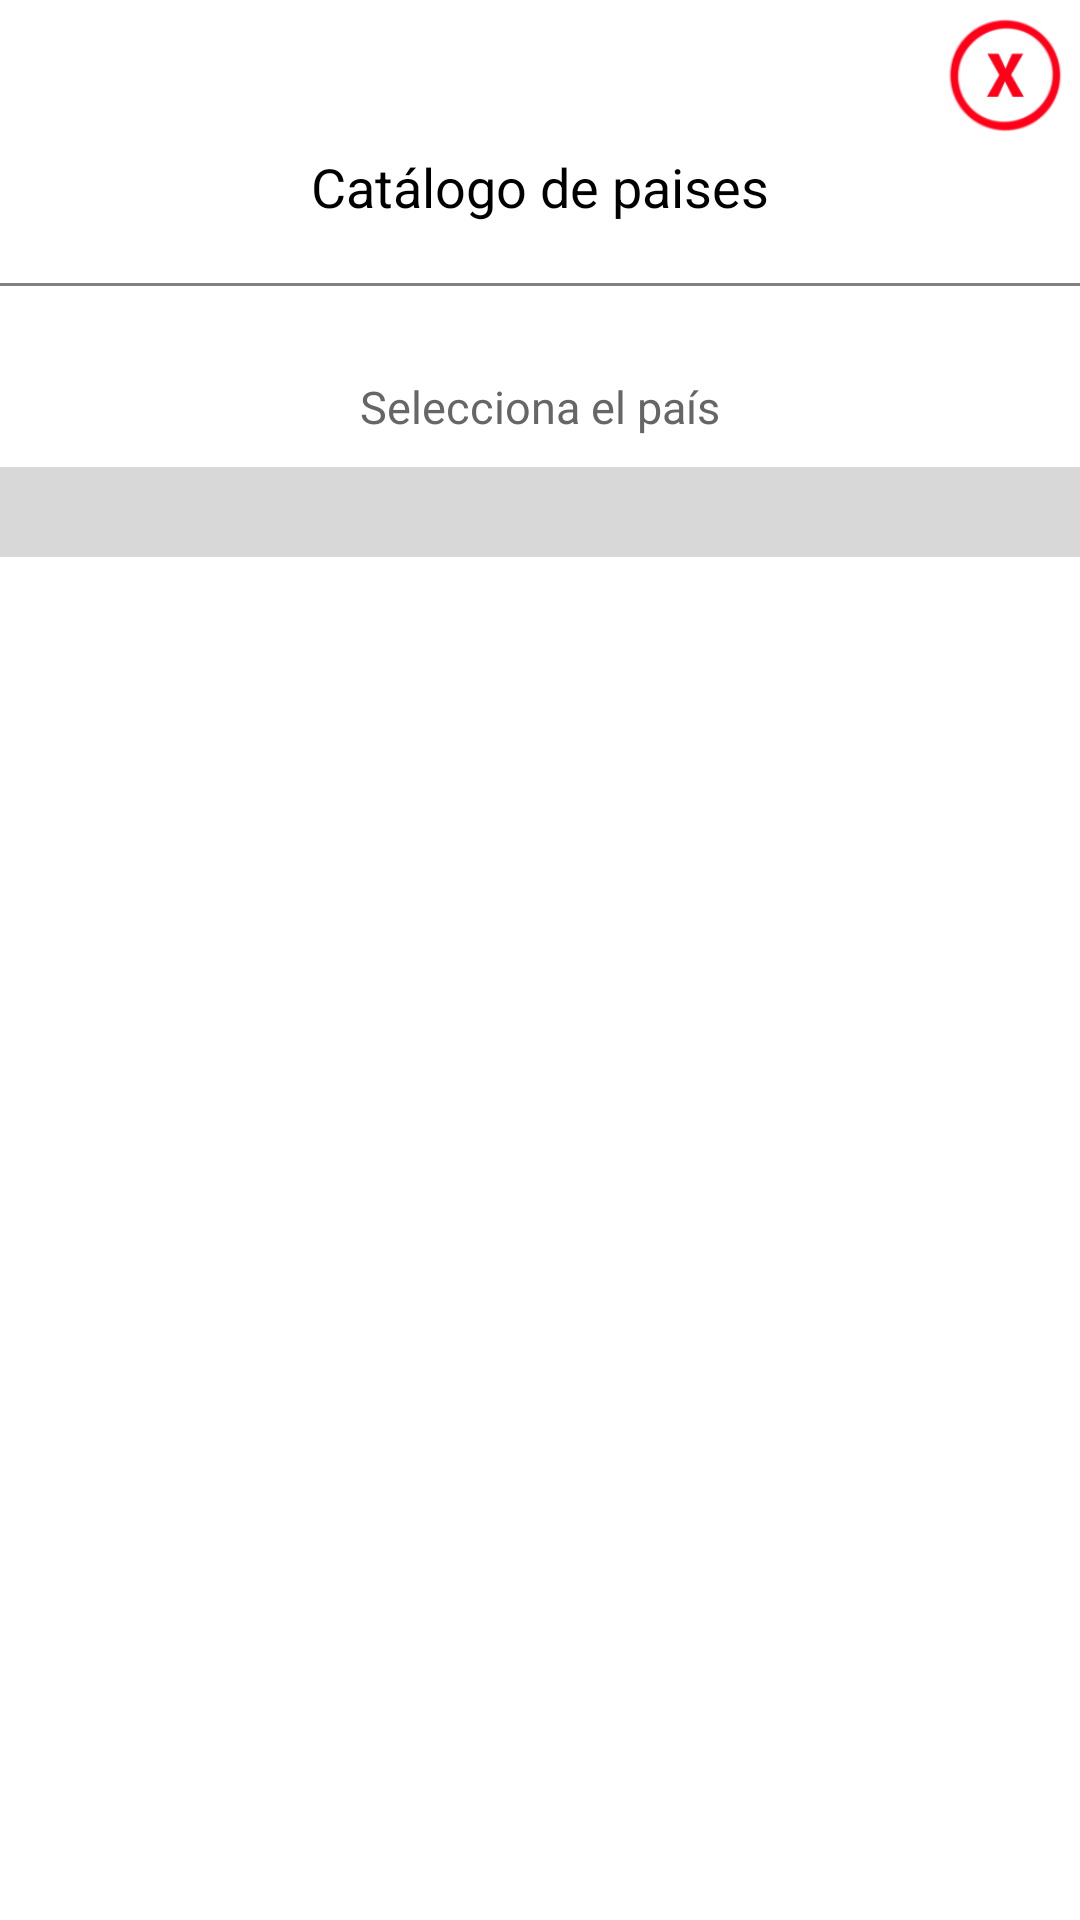

Where to tap for icons on this 1080px x 1920px app screen, as (x,y):
ok no: (1005,75)
